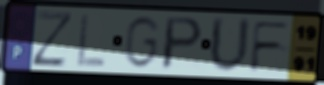F: (248, 20, 293, 74)
G: (121, 14, 163, 71)
L: (75, 12, 108, 69)
P: (158, 15, 206, 72)
U: (207, 14, 253, 76)
Z: (30, 9, 76, 69)
